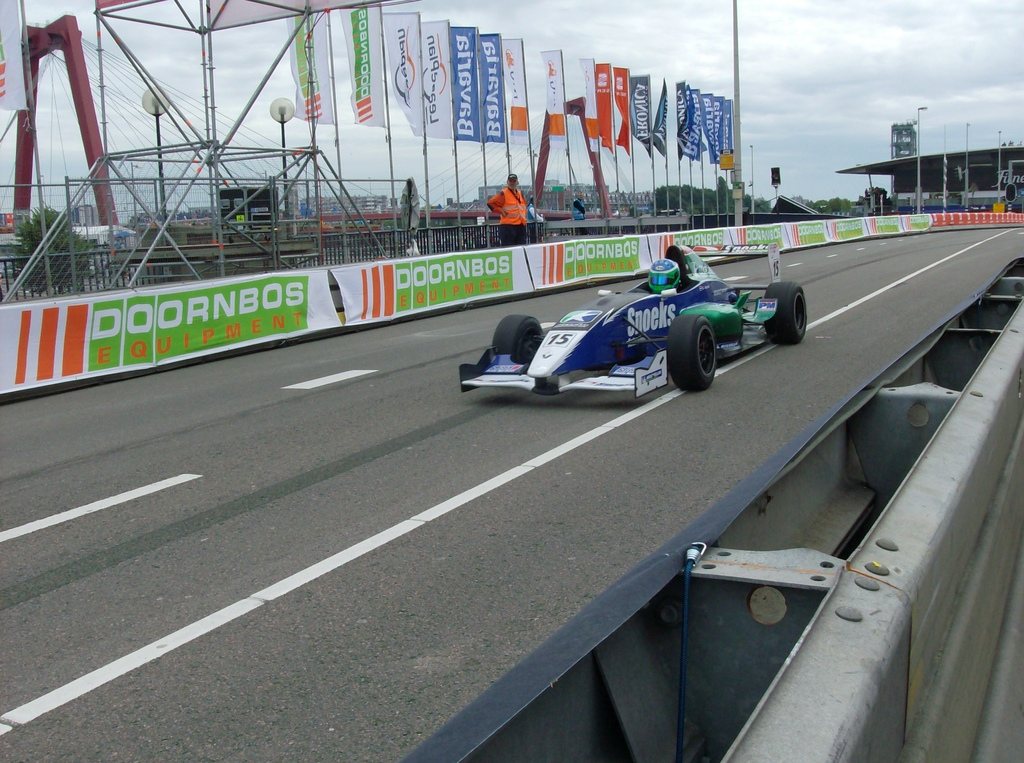Car: (455, 234, 807, 401), (0, 262, 21, 281)
